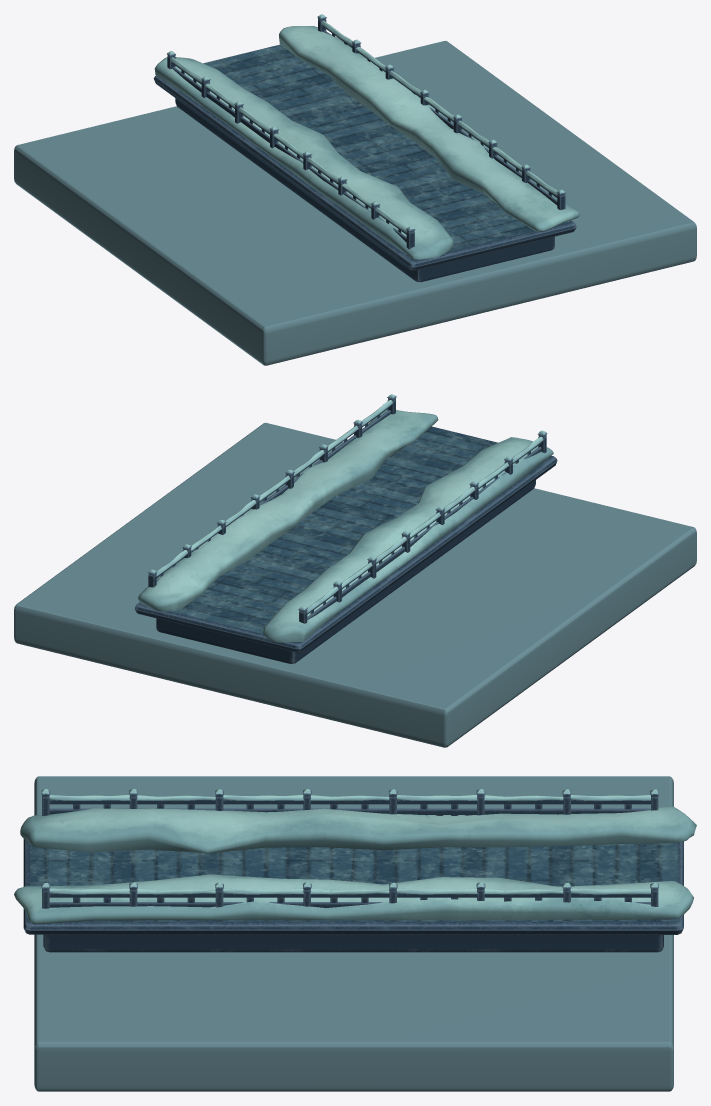
File: SM_FloorRiverBridge.fbx
3 views of the same model, one above another, from view 1: azimuth 30°, elevation 25°; view 2: azimuth 150°, elevation 25°; view 3: azimuth 270°, elevation 25° (orthographic). The views are drawn at different scales.
Parts seen in each view (by area): view 1: SM_River, SM_Bridge, SM_BridgeSnow; view 2: SM_River, SM_Bridge, SM_BridgeSnow; view 3: SM_River, SM_BridgeSnow, SM_Bridge, SM_Bridge27 (×6), SM_Bridge22 (×3), SM_BridgeSnow26, SM_BridgeSnow5, SM_BridgeSnow29, SM_BridgeSnow41, SM_BridgeSnow43, SM_BridgeSnow37.
Boxes of the visible parts, x1,y1,x2,y2 form: SM_River: [14, 40, 696, 365]; SM_Bridge: [153, 44, 576, 282]; SM_BridgeSnow: [154, 26, 580, 259]; SM_River: [14, 422, 696, 747]; SM_Bridge: [135, 426, 557, 663]; SM_BridgeSnow: [138, 409, 553, 642]; SM_River: [34, 776, 673, 1091]; SM_BridgeSnow: [14, 805, 696, 924]; SM_Bridge: [23, 839, 683, 952]; SM_Bridge27 (×6): [49, 797, 563, 897]; SM_Bridge22 (×3): [49, 808, 563, 907]; SM_BridgeSnow26: [223, 888, 389, 894]; SM_BridgeSnow5: [49, 888, 215, 894]; SM_BridgeSnow29: [397, 888, 563, 894]; SM_BridgeSnow41: [223, 795, 389, 800]; SM_BridgeSnow43: [49, 795, 215, 800]; SM_BridgeSnow37: [396, 795, 563, 800].
Bounding box in the file's own units: 24.99 × 5.54 × 26.76.
